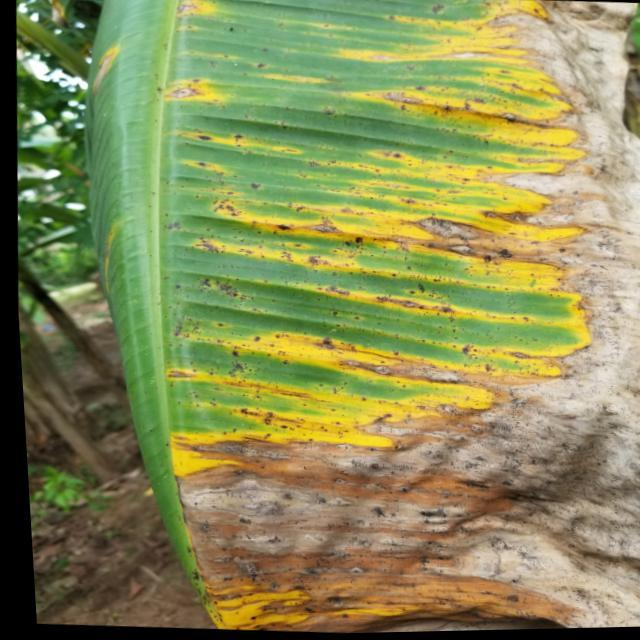Early_rust: (76, 1, 604, 640)
